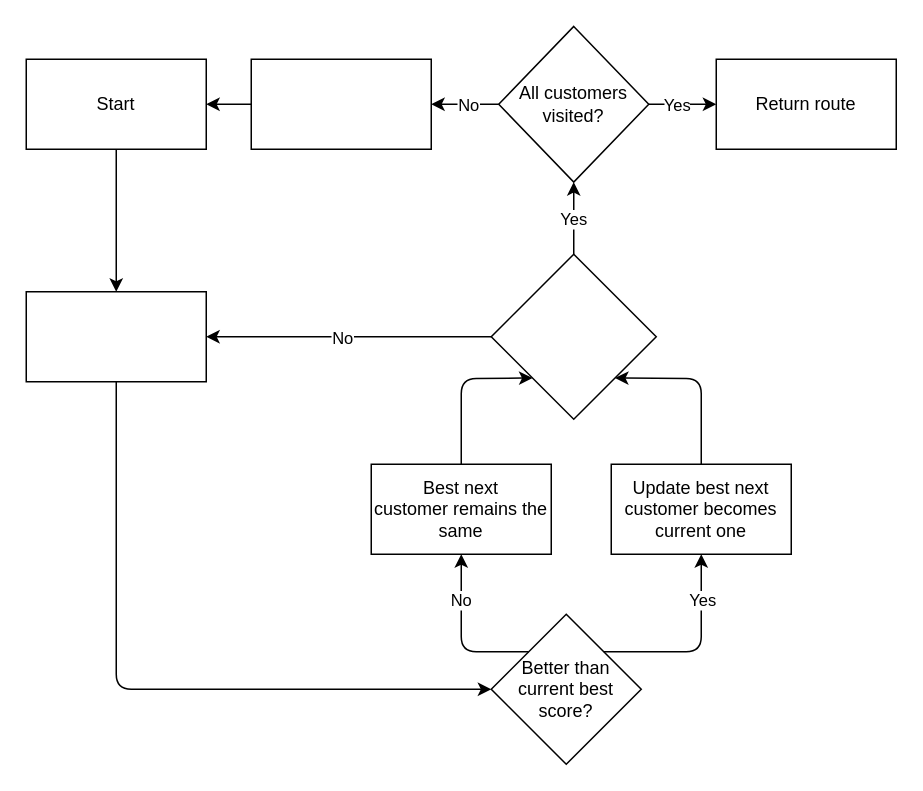
Some shapes in this 923 by 791 pixel diagram are drawn without their labels. The box of each missing label's shape, as (x1, y1, x2, y2) in pixels:
All customers scored?: (490, 253, 656, 419)
Calculate score to next customer in cluster: (25, 290, 206, 382)
Current best customer becomes new start point: (250, 58, 431, 149)
